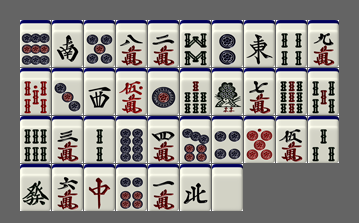0m: (116, 68, 147, 115)
0p: (244, 116, 275, 163)
0s: (20, 68, 51, 115)
1m: (148, 164, 179, 211)
1p: (148, 68, 179, 115)
1s: (212, 68, 243, 115)
1z: (244, 20, 275, 67)
2m: (148, 20, 179, 67)
2p: (212, 20, 243, 67)
2s: (84, 116, 115, 163)
2z: (52, 20, 83, 67)
3m: (52, 116, 83, 163)
3p: (52, 68, 83, 115)
3s: (308, 116, 339, 163)
3z: (84, 68, 115, 115)
4m: (148, 116, 179, 163)
4p: (212, 116, 243, 163)
4s: (276, 20, 307, 67)
4z: (180, 164, 211, 211)
5m: (276, 116, 307, 163)
5p: (84, 20, 115, 67)
5s: (308, 68, 339, 115)
5z: (212, 164, 243, 211)
6m: (52, 164, 83, 211)
6p: (116, 164, 147, 211)
6s: (20, 116, 51, 163)
6z: (20, 164, 51, 211)
7m: (244, 68, 275, 115)
7p: (180, 116, 211, 163)
7s: (180, 68, 211, 115)
7z: (84, 164, 115, 211)
8m: (116, 20, 147, 67)
8p: (116, 116, 147, 163)
8s: (180, 20, 211, 67)
9m: (308, 20, 339, 67)
9p: (20, 20, 51, 67)
9s: (276, 68, 307, 115)
